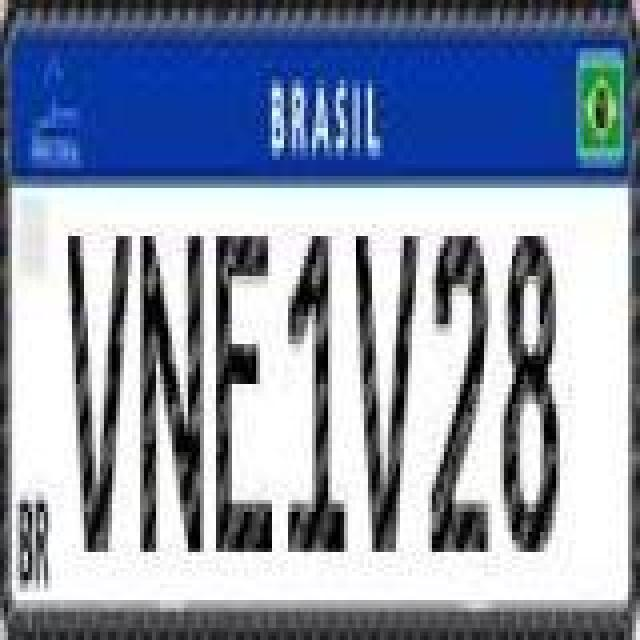1: (282, 230, 350, 554)
2: (424, 224, 488, 560)
8: (496, 230, 560, 554)
E: (214, 230, 274, 554)
N: (138, 230, 206, 554)
V: (64, 224, 128, 560), (356, 230, 420, 554)
